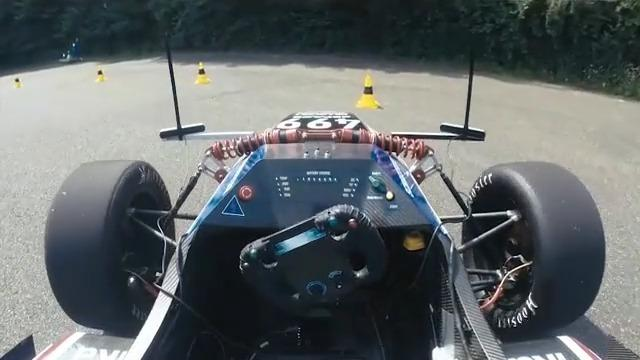yellow_cone: (358, 70, 378, 108), (195, 60, 209, 86), (94, 67, 106, 84), (13, 76, 22, 90)
